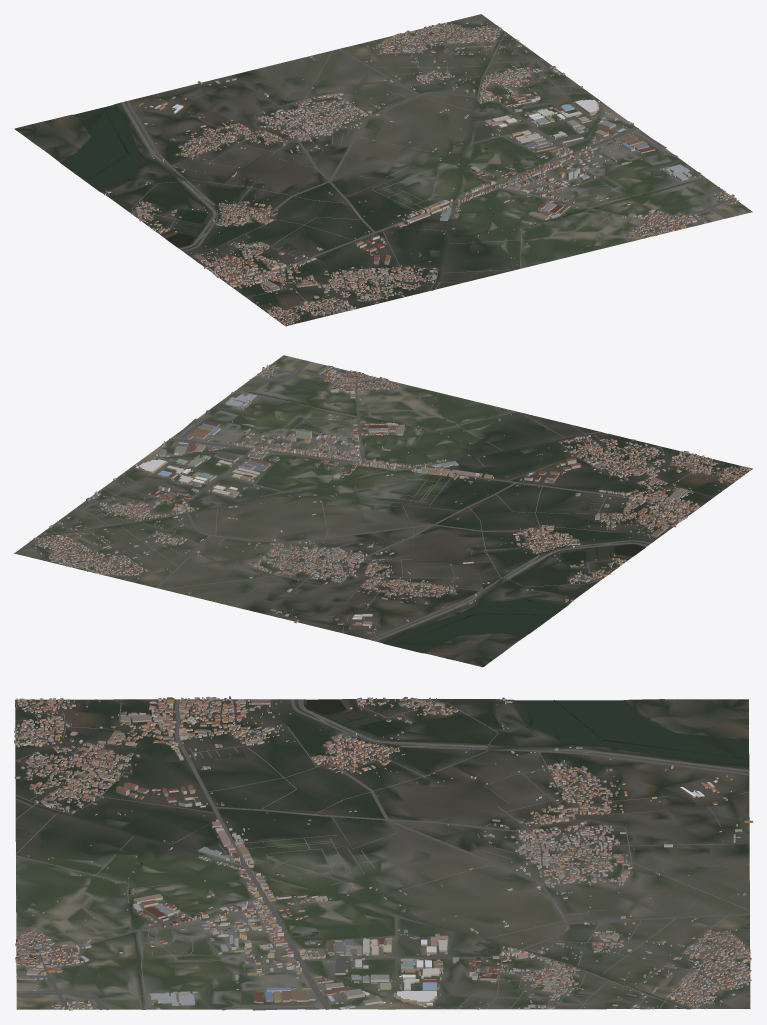
3 renders of one model, top to bottom at view 1: azimuth 30°, elevation 25°; view 2: azimuth 150°, elevation 25°; view 3: azimuth 270°, elevation 25°, orthographic. The views are drawn at different scales.
Parts seen in each view (by area): view 1: ground, buildings, roads, water; view 2: ground, buildings, roads, water; view 3: ground, buildings, roads, water.
Boxes of the visible parts, x1,y1,x2,y2 form: ground: (14,14,752,326); buildings: (104,22,739,325); roads: (120,26,744,326); water: (15,31,702,287); ground: (14,355,752,667); buildings: (29,364,752,633); roads: (35,359,751,641); water: (37,390,644,666); ground: (15,699,750,1009); buildings: (14,696,752,1010); roads: (15,699,749,1010); water: (22,699,748,1008).
Size of the model in its own units: 2821 by 49.81 by 2823.
